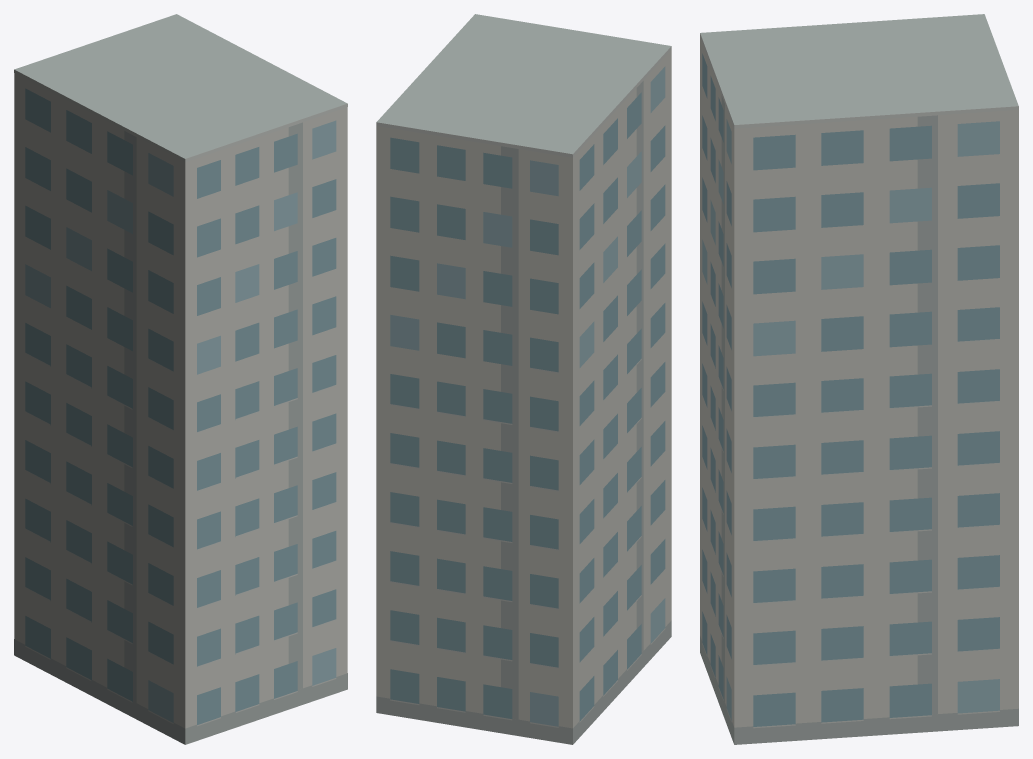
File: residential-6c047c84-27aa-4311-b201-6e8738f88e67.glb
The picture shows the model from 3 angles, left to right: view 1: azimuth 30°, elevation 25°; view 2: azimuth 150°, elevation 25°; view 3: azimuth 270°, elevation 25°; orthographic projection. The views are drawn at different scales.
Parts seen in each view (by area): view 1: residential-6c047c84-27aa-4311-b201-6e8738f88e67.tmp; view 2: residential-6c047c84-27aa-4311-b201-6e8738f88e67.tmp; view 3: residential-6c047c84-27aa-4311-b201-6e8738f88e67.tmp.
Boxes of the visible parts, x1,y1,x2,y2 form: residential-6c047c84-27aa-4311-b201-6e8738f88e67.tmp: (14, 14, 347, 744); residential-6c047c84-27aa-4311-b201-6e8738f88e67.tmp: (376, 14, 671, 744); residential-6c047c84-27aa-4311-b201-6e8738f88e67.tmp: (700, 14, 1018, 744).
Bounding box in the file's own units: 15.39 × 40 × 18.66.
